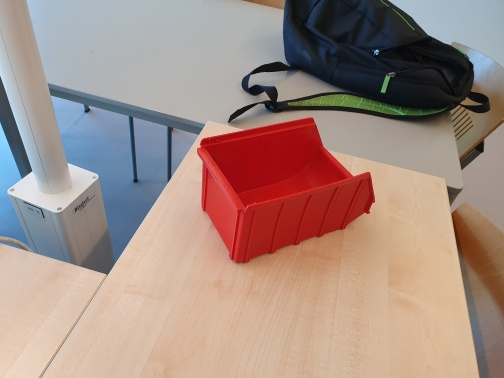tray_left: (239, 171, 377, 262)
